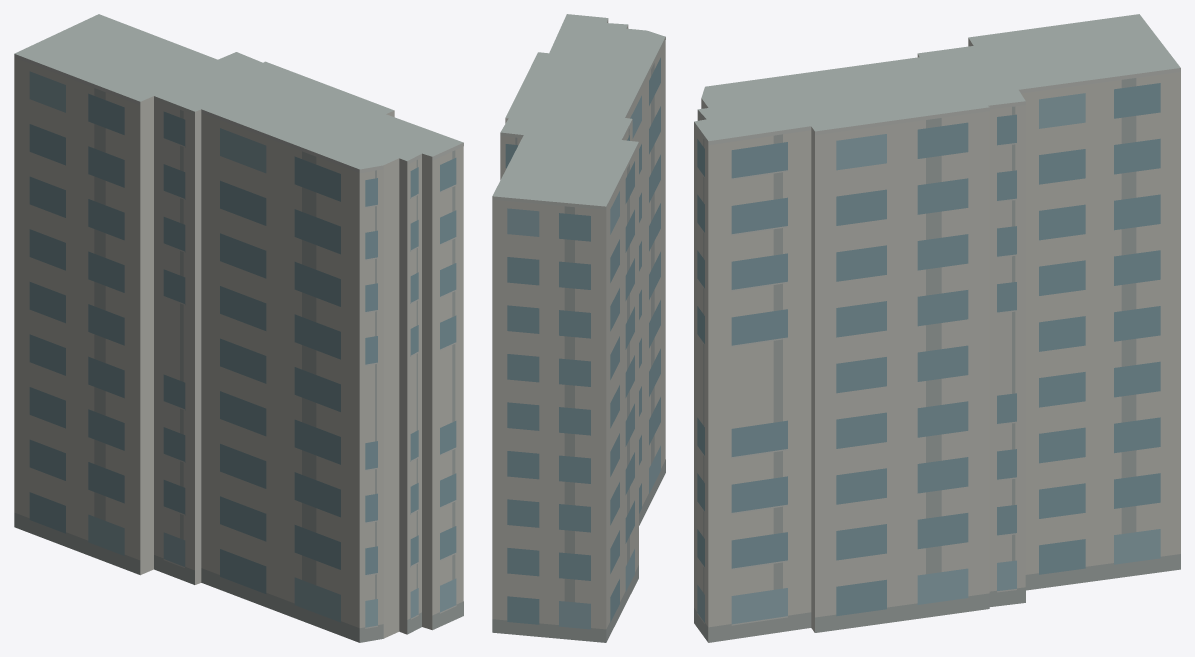
The model's file is survey-upis-32977038.glb.
The picture shows the model from 3 angles, left to right: view 1: azimuth 30°, elevation 25°; view 2: azimuth 150°, elevation 25°; view 3: azimuth 270°, elevation 25°; orthographic projection. The views are drawn at different scales.
Parts seen in each view (by area): view 1: survey-upis-32977038.tmp; view 2: survey-upis-32977038.tmp; view 3: survey-upis-32977038.tmp.
Part boxes in pixels (<box>): survey-upis-32977038.tmp: <box>14,14,463,642</box>; survey-upis-32977038.tmp: <box>492,14,665,642</box>; survey-upis-32977038.tmp: <box>694,14,1180,642</box>.
Size of the model in its own units: 16.77 by 30.8 by 27.1.
